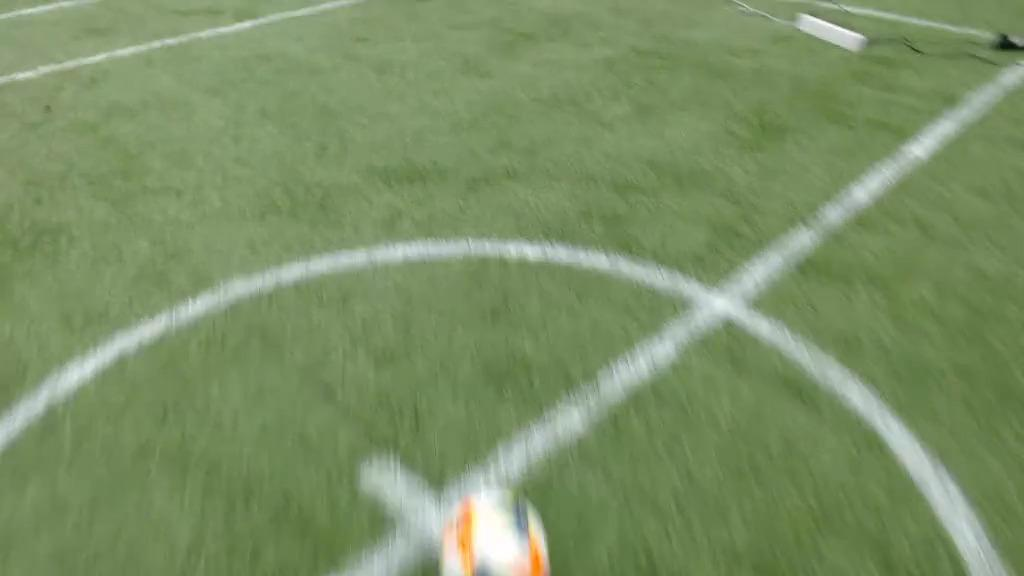ball: (443, 492, 550, 576)
